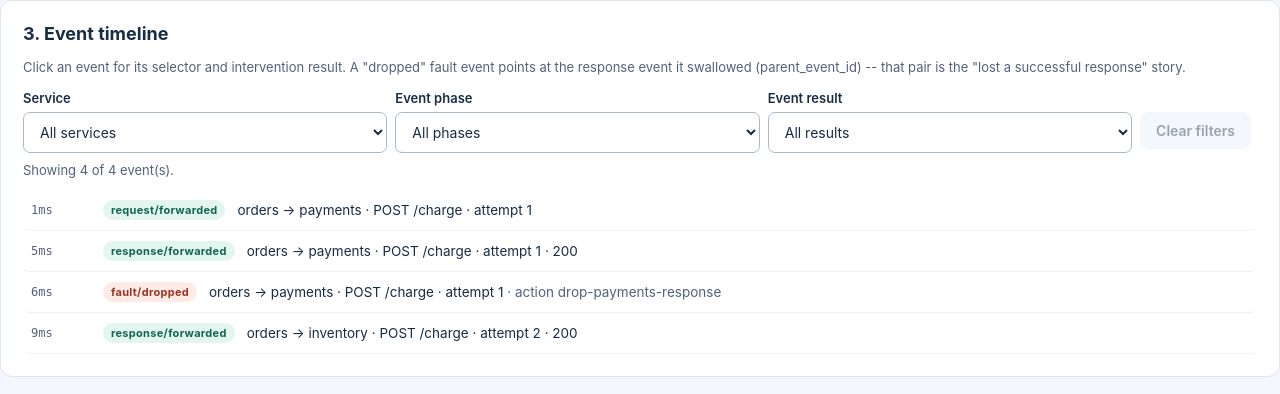
Scenario: <EventTimeline/> › filters by result and clears the filter
Select "dropped" in the dropdown labelled "Event result". click: (950, 132)
box: x1=768 y1=112 x2=1132 y2=152
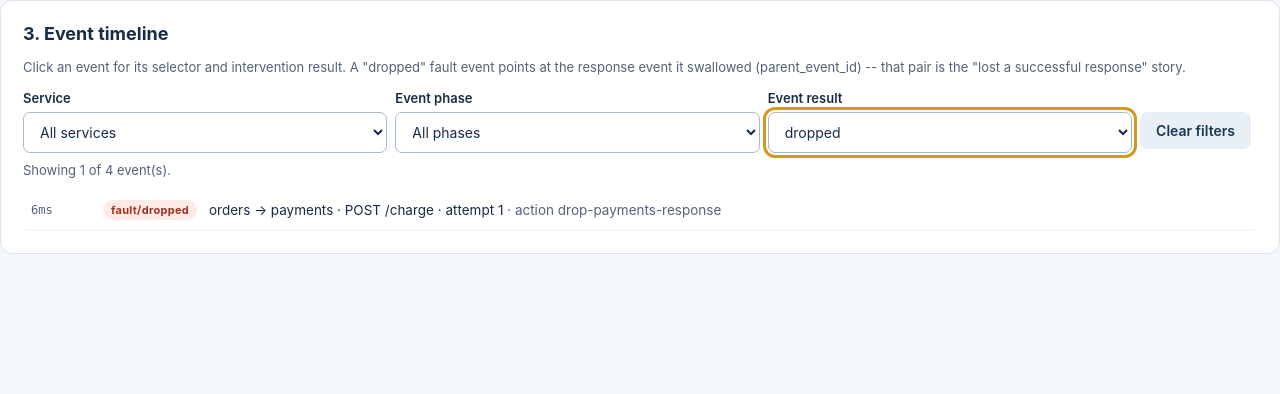
Expected: the text "Showing 1 of 4 event(s)." is shown, x1=23 y1=162 x2=171 y2=178
Click the button "Clear filters". click: (1196, 130)
box: x1=1140 y1=112 x2=1251 y2=148
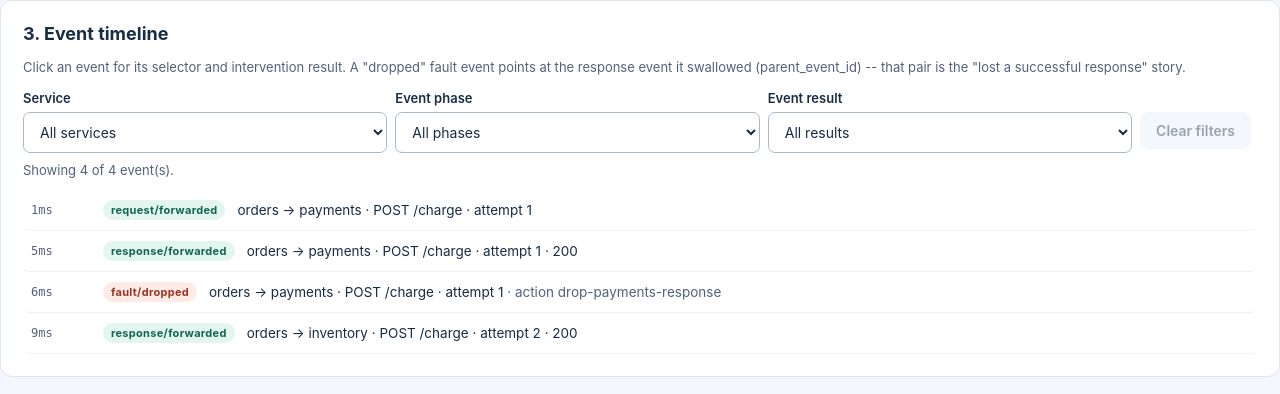
Expected: the text "Showing 4 of 4 event(s)." is shown, x1=23 y1=162 x2=174 y2=178
Expected: the button "Clear filters" is disabled, x1=1140 y1=112 x2=1251 y2=148
